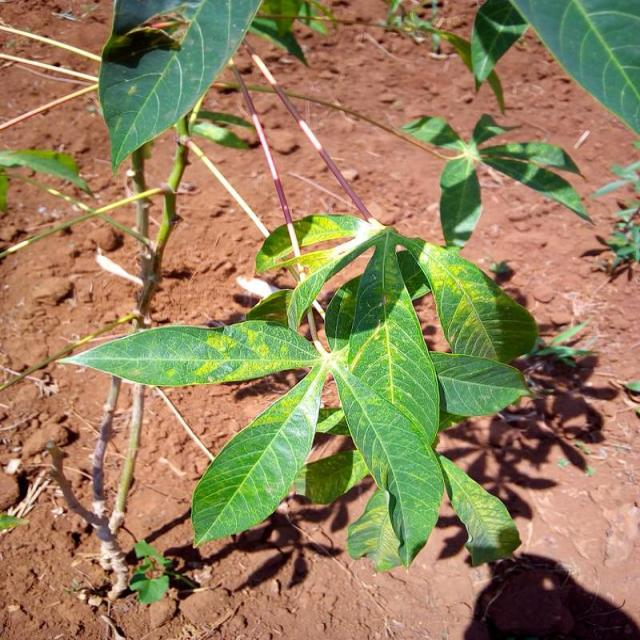cassava leaf: (57, 211, 539, 572), (98, 0, 263, 174), (56, 319, 324, 387)
